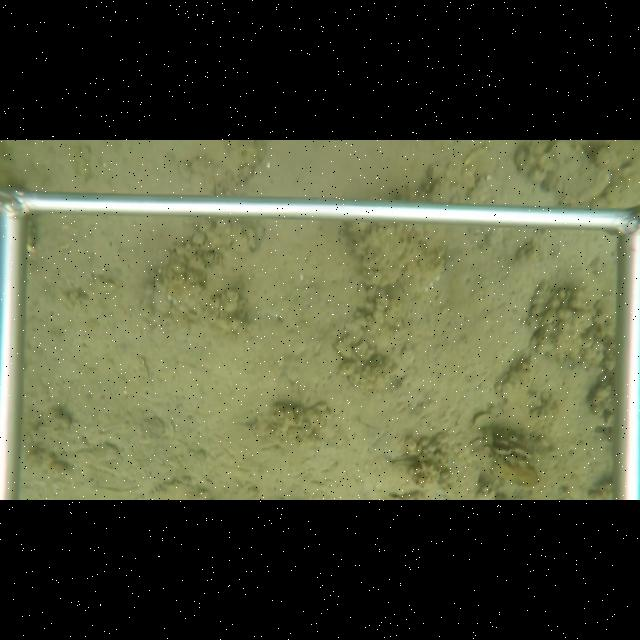Oyster-Closed: (547, 142, 612, 205)
